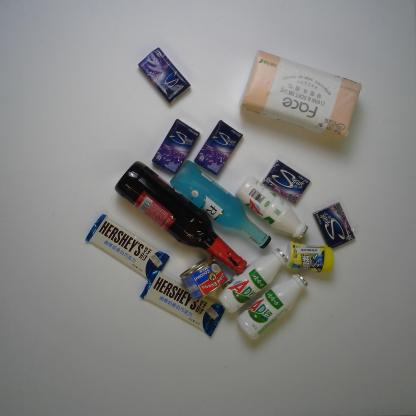Alcohol: (113, 159, 249, 275), (169, 159, 271, 250)
Canned Food: (180, 256, 228, 302)
Chocolate: (84, 212, 171, 282), (138, 270, 225, 335)
Gum: (137, 47, 191, 105), (192, 119, 244, 177), (152, 119, 200, 174), (262, 160, 310, 205), (312, 201, 356, 250), (286, 240, 336, 276)
Milk: (235, 174, 309, 240), (238, 273, 308, 341), (216, 247, 288, 313)
Tissue: (238, 51, 364, 141)
